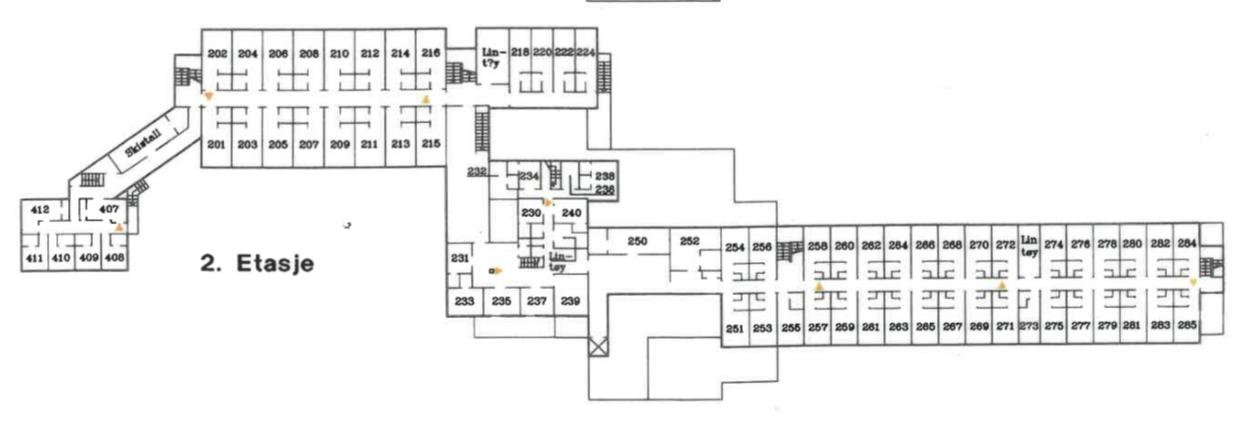room: (588, 227, 670, 255), (670, 228, 721, 270), (293, 29, 325, 90), (262, 29, 294, 90), (385, 105, 416, 167), (293, 106, 324, 168), (385, 29, 416, 90), (324, 29, 355, 90), (201, 106, 232, 167), (354, 107, 385, 167), (324, 106, 355, 166), (355, 29, 385, 90), (232, 29, 262, 90), (202, 29, 232, 90), (416, 105, 446, 166), (263, 106, 293, 167), (232, 107, 262, 168), (416, 29, 446, 89), (476, 27, 507, 84), (553, 198, 587, 248), (964, 289, 993, 345), (884, 290, 913, 345), (910, 290, 939, 345), (938, 289, 966, 345), (1039, 288, 1067, 344), (749, 292, 778, 346), (776, 291, 805, 345), (803, 291, 832, 345), (857, 290, 885, 345), (991, 289, 1019, 344), (1066, 289, 1094, 344), (1093, 289, 1121, 344), (721, 292, 749, 346), (830, 291, 858, 345), (1146, 289, 1174, 343), (1066, 224, 1094, 278), (803, 226, 831, 280), (553, 27, 576, 92), (1120, 289, 1147, 344), (749, 227, 777, 280), (721, 227, 749, 280), (1173, 289, 1200, 343), (1146, 223, 1173, 277), (964, 225, 991, 279), (938, 225, 965, 279), (911, 225, 938, 279), (884, 225, 911, 279), (857, 225, 884, 279), (830, 225, 857, 279), (1120, 224, 1147, 277), (1093, 224, 1120, 277), (532, 28, 554, 93), (509, 27, 531, 92), (575, 28, 597, 92), (1173, 224, 1200, 276), (1040, 224, 1066, 278), (554, 274, 588, 315), (992, 224, 1017, 278), (579, 162, 617, 195), (1019, 289, 1041, 344), (446, 242, 472, 288), (21, 198, 70, 222), (1018, 225, 1040, 277), (79, 198, 127, 221), (21, 233, 49, 271), (447, 287, 483, 316), (483, 287, 520, 315), (74, 233, 102, 270), (101, 232, 128, 270), (518, 199, 543, 239), (48, 233, 75, 270), (520, 287, 554, 315), (507, 161, 541, 189)
